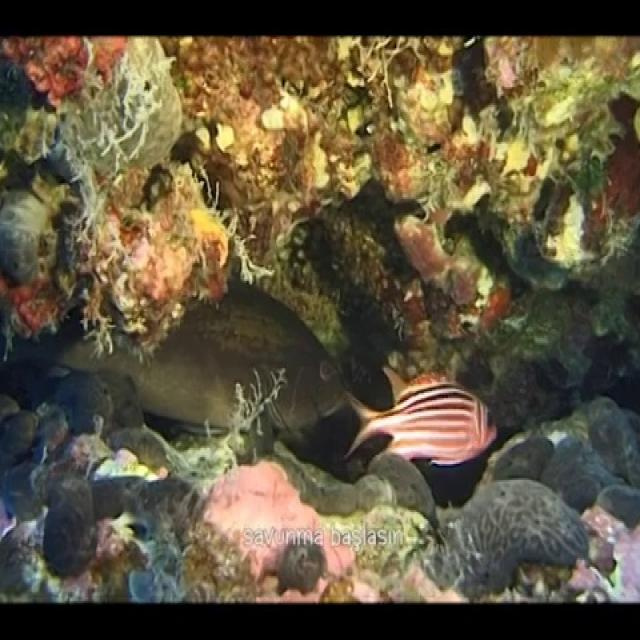Asker Baligi: (346, 366, 496, 473)
